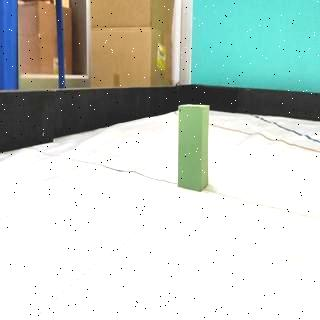greenbox: (177, 104, 210, 191)
